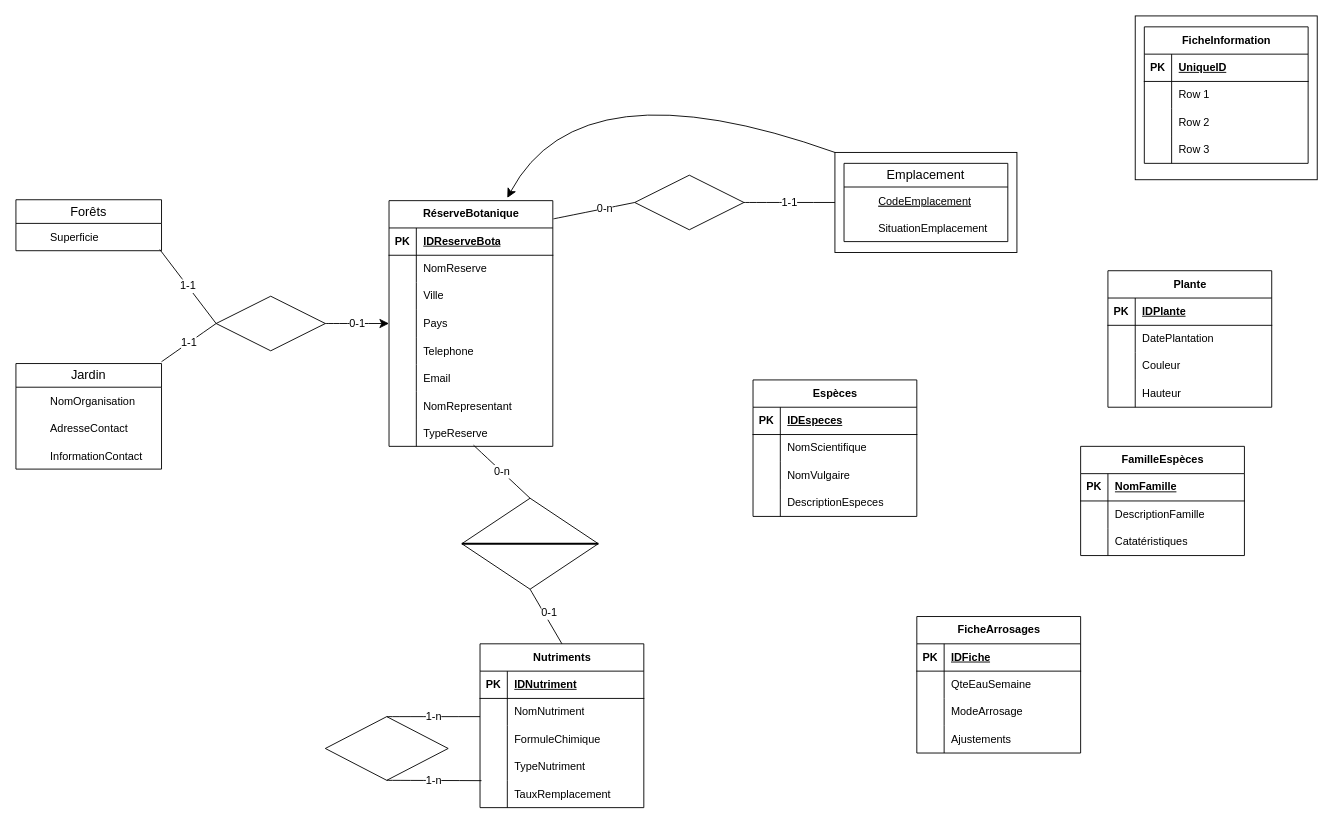
Image size: 1333x824. Some labels were removed from this diagram. The shapes that lost their labels are listed below. From the top down, each one's centre as x and y in pixels, then its label:
[689,202]: Appartenir
[270,323]: IS A
[529,543]: Stocker + QteNutriment
[386,748]: Remplacer
